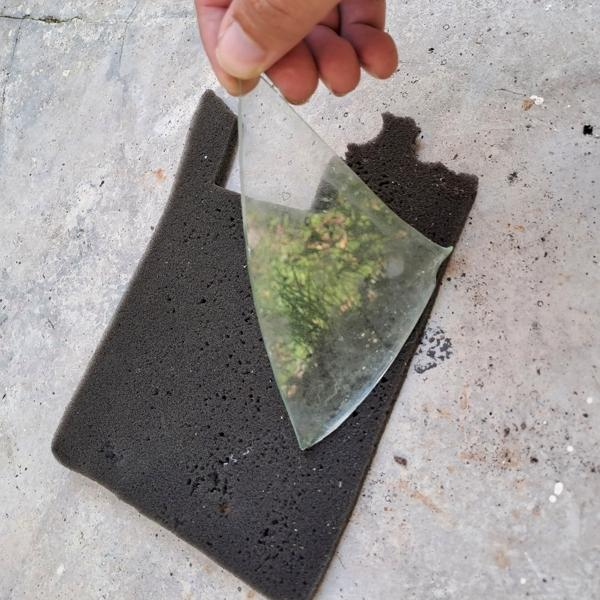Anorganik: (200, 52, 470, 465)
